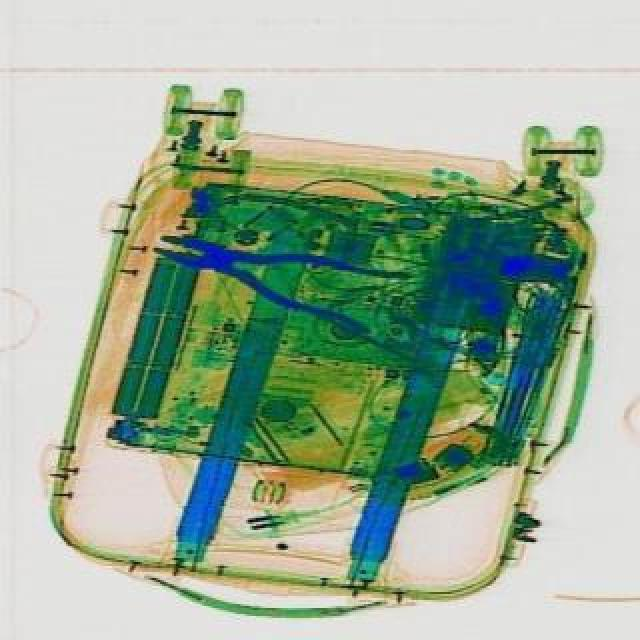wrench: (142, 206, 410, 340)
